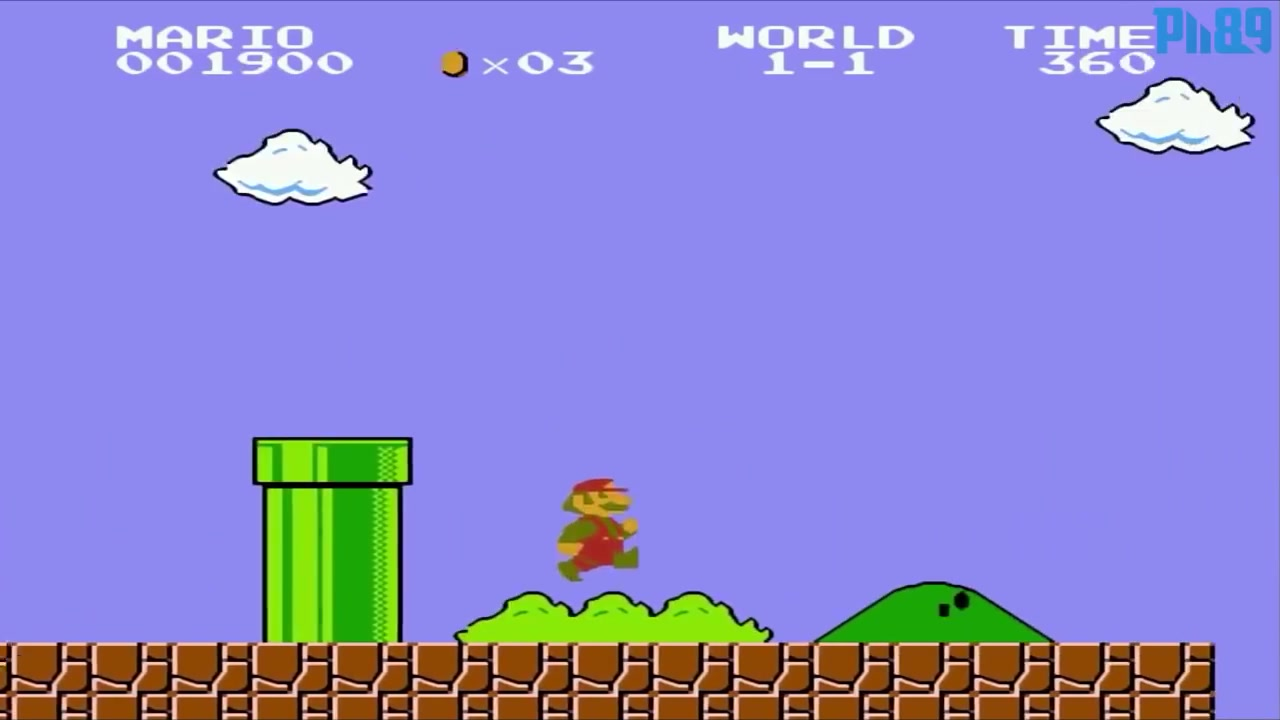mario: (535, 467, 645, 586)
